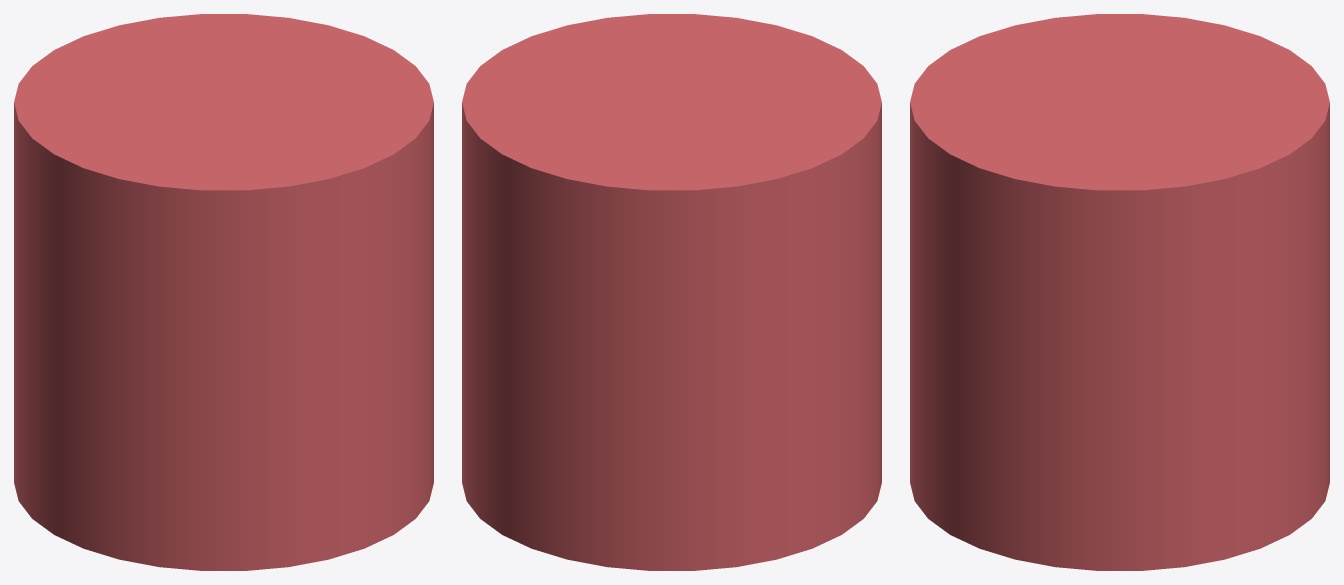
Rendered from Cylineder.obj.
The picture shows the model from 3 angles, left to right: view 1: azimuth 30°, elevation 25°; view 2: azimuth 150°, elevation 25°; view 3: azimuth 270°, elevation 25°; orthographic projection.
Visible parts, largest first — view 1: Cylinder; view 2: Cylinder; view 3: Cylinder.
Part boxes in pixels (x1,y1,x2,y2): Cylinder: (14, 14, 433, 570); Cylinder: (462, 14, 881, 570); Cylinder: (910, 14, 1329, 570).
Size of the model in its own units: 0.9945 by 1 by 1.
